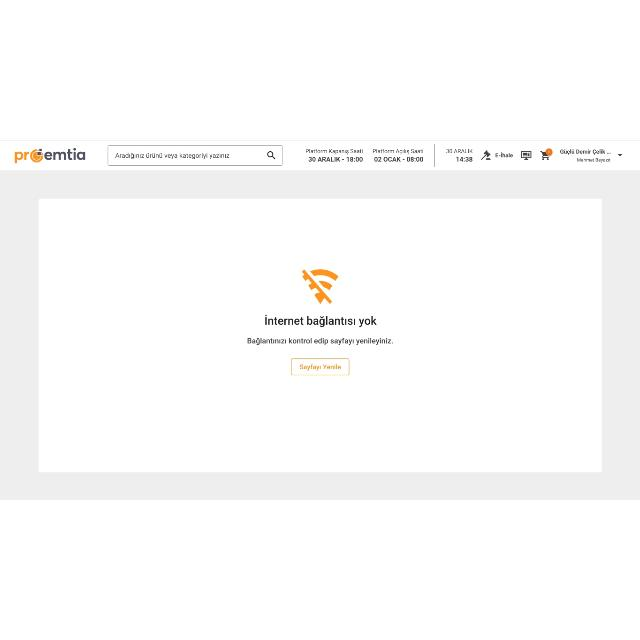QLabel: (243, 336, 397, 348), (260, 314, 378, 328), (304, 147, 364, 155), (298, 362, 342, 372), (371, 148, 425, 156), (559, 148, 613, 156), (306, 156, 364, 162), (372, 156, 424, 162), (446, 148, 474, 154), (494, 152, 514, 160), (574, 158, 612, 162), (455, 156, 473, 162)
VAppBar: (1, 140, 640, 170)
VBadge: (538, 146, 554, 162)
VBtn: (290, 358, 350, 376)
VCard: (39, 198, 602, 474)
VDivider: (434, 142, 436, 168)
VIcon: (520, 149, 532, 161), (480, 150, 492, 160), (616, 154, 624, 158)
VImg: (293, 264, 345, 308), (13, 145, 88, 167)
VTextField: (108, 146, 282, 166)
